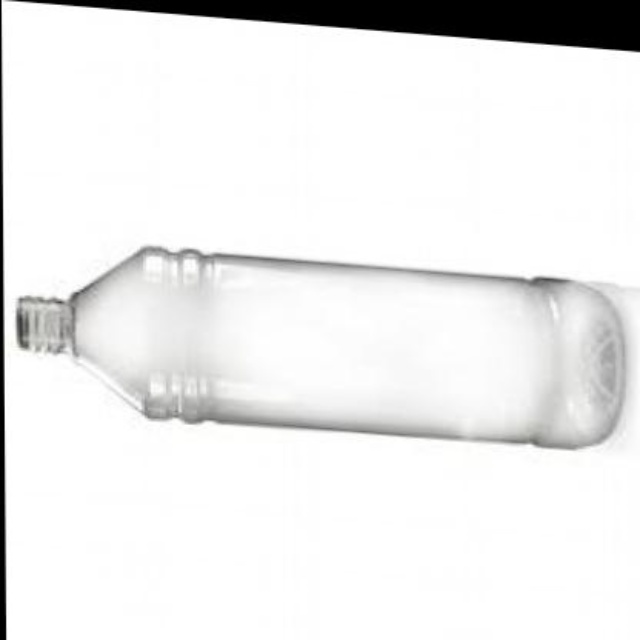trash: (17, 246, 638, 446)
